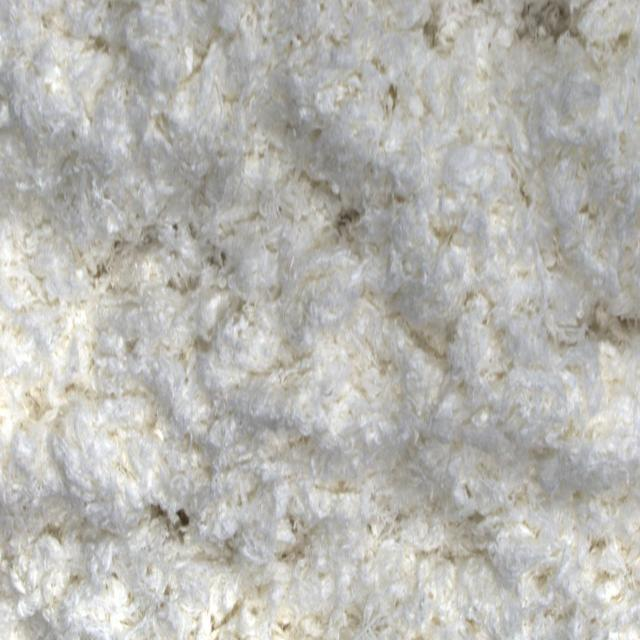dust: (161, 496, 213, 552), (522, 5, 595, 42)
